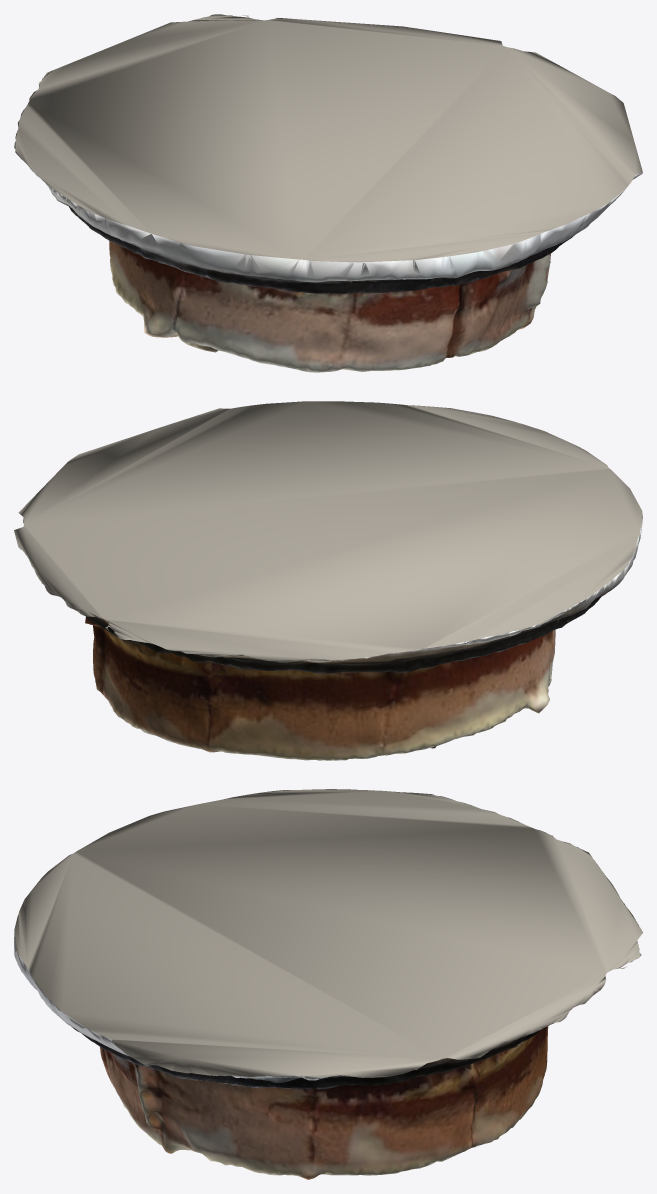
Rendered from cake_28810.obj.
3 views of the same model, one above another, from view 1: azimuth 30°, elevation 25°; view 2: azimuth 150°, elevation 25°; view 3: azimuth 270°, elevation 25° (orthographic). The views are drawn at different scales.
Bounding box in the file's own units: 0.1761 × 0.0565 × 0.1767.
1 material, 1 textured.
